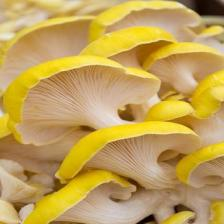yellow: (4, 55, 160, 146), (56, 122, 201, 190), (23, 170, 132, 224), (143, 43, 224, 95), (80, 27, 177, 69), (193, 71, 224, 119), (148, 101, 195, 122)
